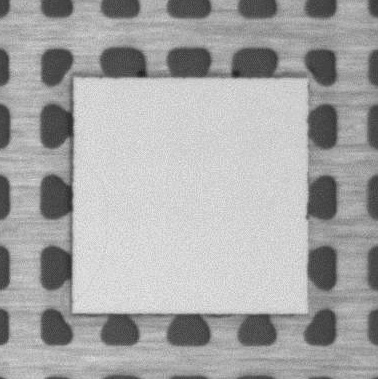DIE_CRACK: (78, 154, 113, 301)
